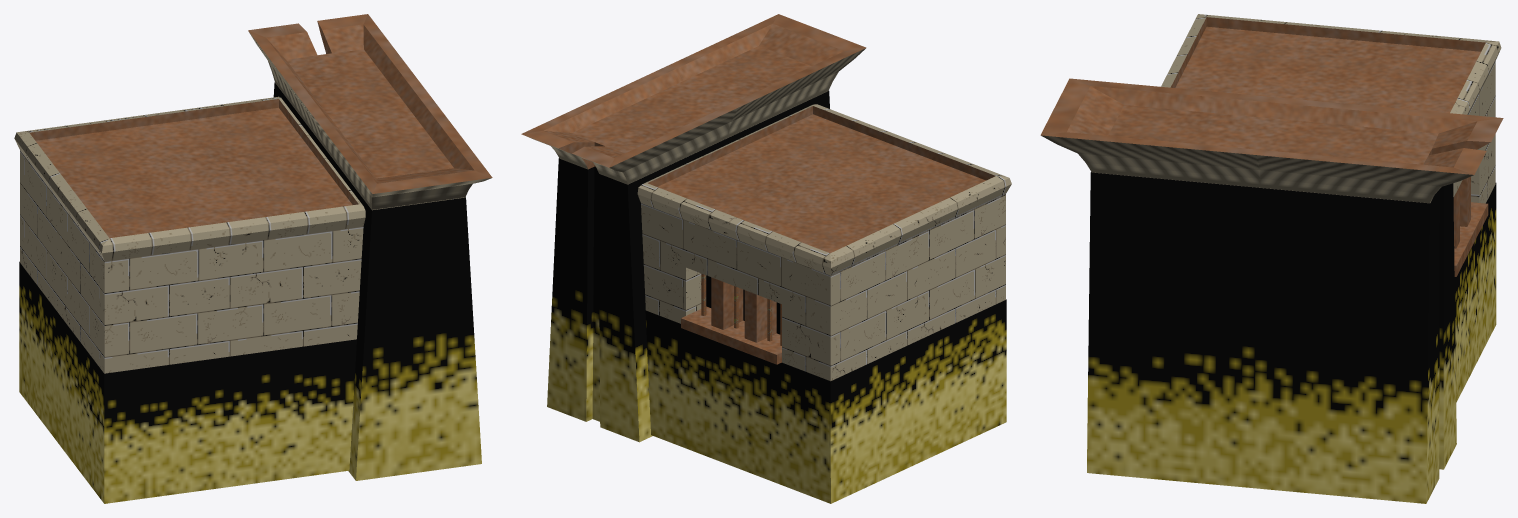
The model's file is EgyptBuilding4.fbx.
The picture shows the model from 3 angles, left to right: view 1: azimuth 30°, elevation 25°; view 2: azimuth 150°, elevation 25°; view 3: azimuth 270°, elevation 25°; orthographic projection. The views are drawn at different scales.
Visible parts, largest first — view 1: Building 4, Cube.080; view 2: Building 4, Cube.080; view 3: Cube.080, Building 4.
Boxes of the visible parts, box(x1,y1,x2,y2) form: Building 4: box(14, 14, 492, 373); Cube.080: box(19, 82, 481, 503); Building 4: box(521, 14, 1011, 381); Cube.080: box(547, 91, 1006, 503); Cube.080: box(1087, 172, 1496, 503); Building 4: box(1040, 14, 1503, 276).
Size of the model in its own units: 999 by 738 by 933.
